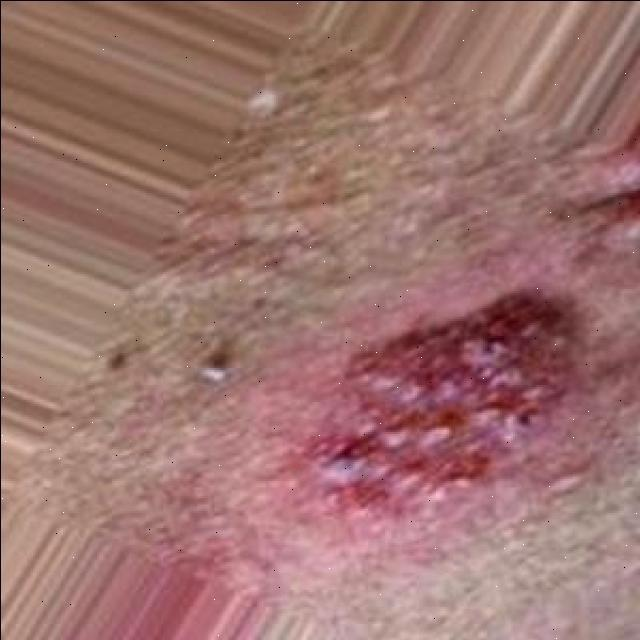Shingles: (318, 288, 574, 524)
